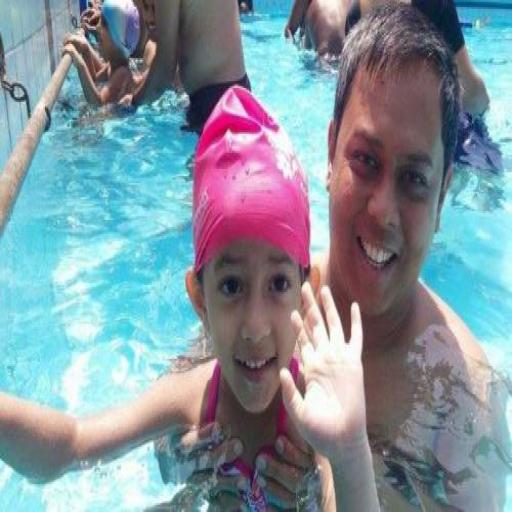swimming: (289, 6, 510, 508)
